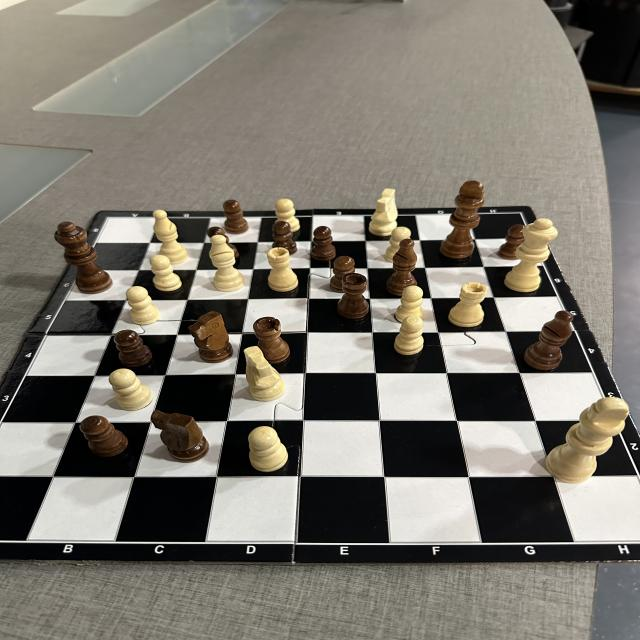Black-Bishop: (524, 310, 573, 370), (386, 238, 418, 295)
Black-King: (439, 180, 485, 259)
Black-Knight: (151, 410, 209, 462), (190, 311, 232, 363)
Black-Pawn: (80, 415, 127, 456), (114, 330, 152, 366), (330, 256, 356, 292), (500, 224, 525, 260), (310, 226, 336, 260), (224, 200, 248, 233), (273, 222, 296, 254), (207, 228, 225, 236)
Black-Queen: (54, 222, 113, 294)
Black-Rook: (254, 317, 291, 363), (338, 273, 370, 319)
White-Bishop: (209, 235, 246, 292), (154, 210, 188, 264)
White-King: (544, 396, 630, 484)
White-Knight: (243, 346, 284, 402), (369, 189, 397, 236)
White-Pawn: (249, 426, 288, 472), (110, 369, 152, 411), (126, 286, 160, 325), (394, 316, 424, 356), (150, 255, 182, 292), (396, 286, 424, 323), (385, 227, 411, 262), (274, 198, 300, 232)
White-Queen: (502, 218, 562, 292)
White-Rook: (448, 282, 484, 327), (268, 247, 298, 292)
